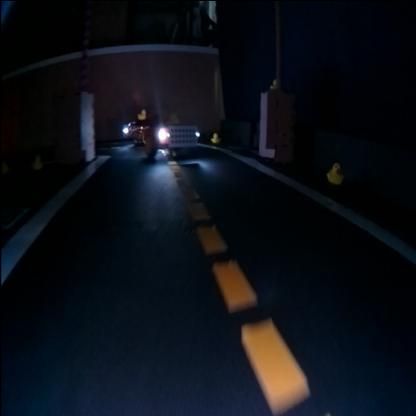Duckie: (327, 162, 343, 181), (33, 154, 41, 168), (138, 107, 146, 119), (210, 130, 218, 140), (270, 78, 278, 86)
Duckiebot: (144, 122, 198, 154)
